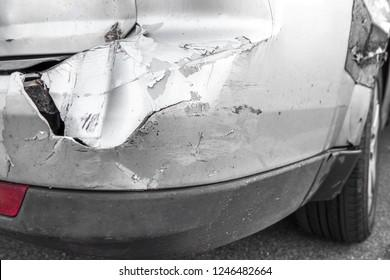rear-bumper-dent: (0, 70, 344, 253)
